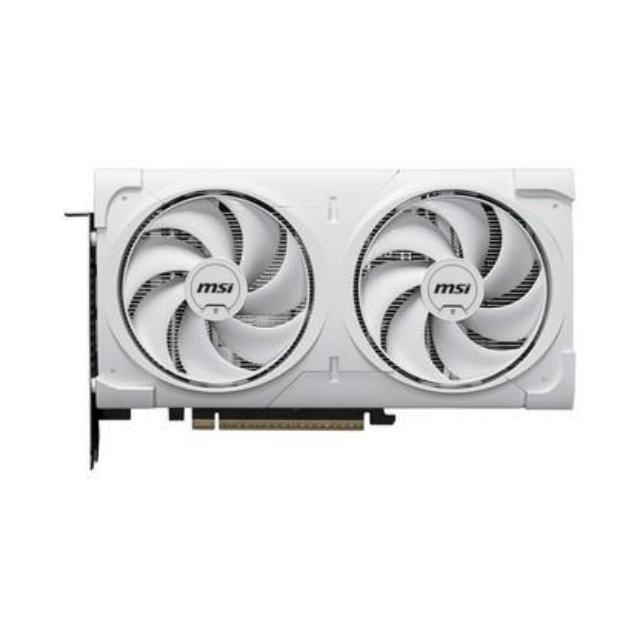GPU: (75, 163, 588, 451)
